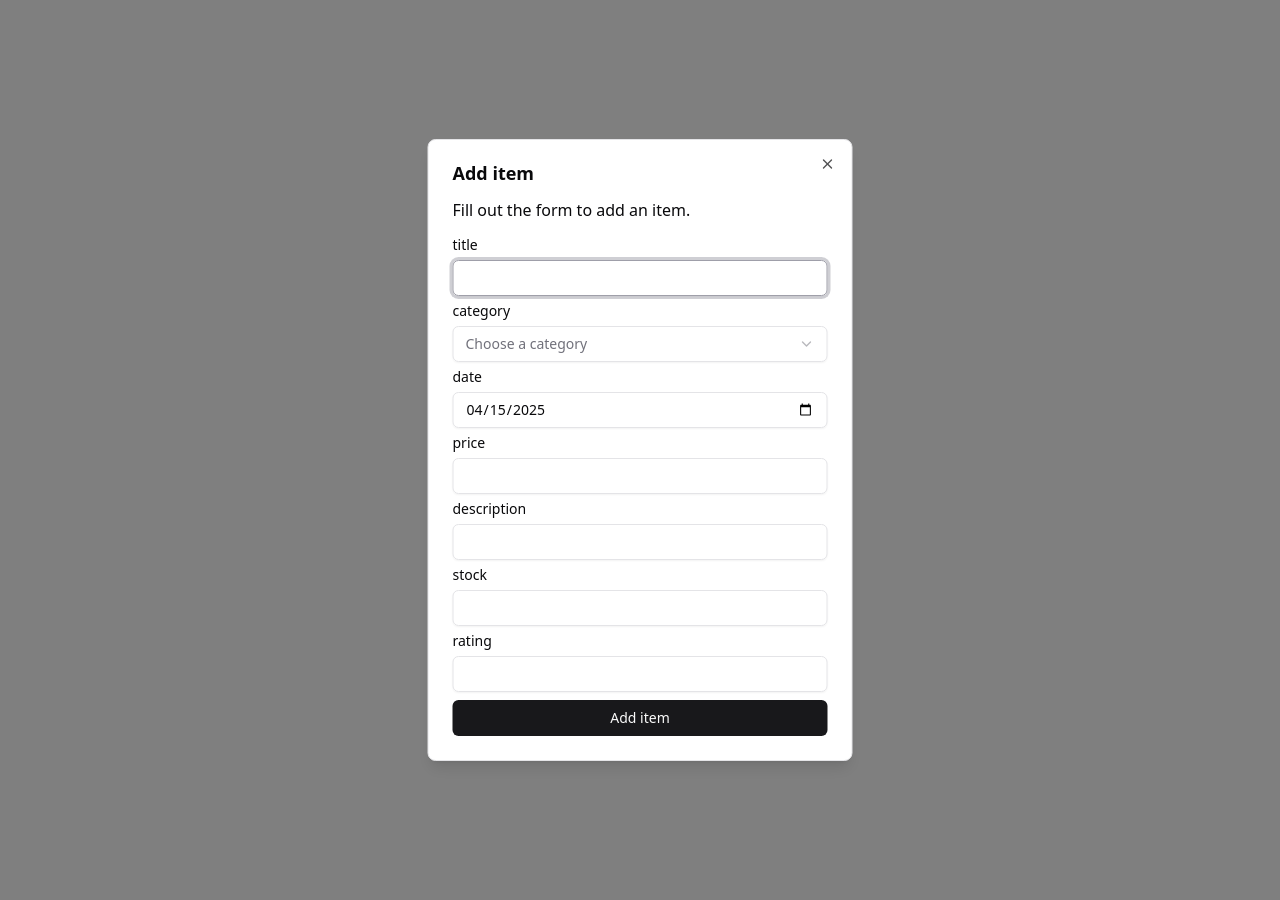
Test: ItemDialog - Add Item › shows validation errors if submitted empty (excluding date)
The width and height of the screenshot is (1280, 900).
// کلیک روی دکمه ارسال فرم
What coordinates should you click on to do the following:
click the button "Add item"
I would click on:
 (640, 718)
Its box is [452, 700, 828, 736].
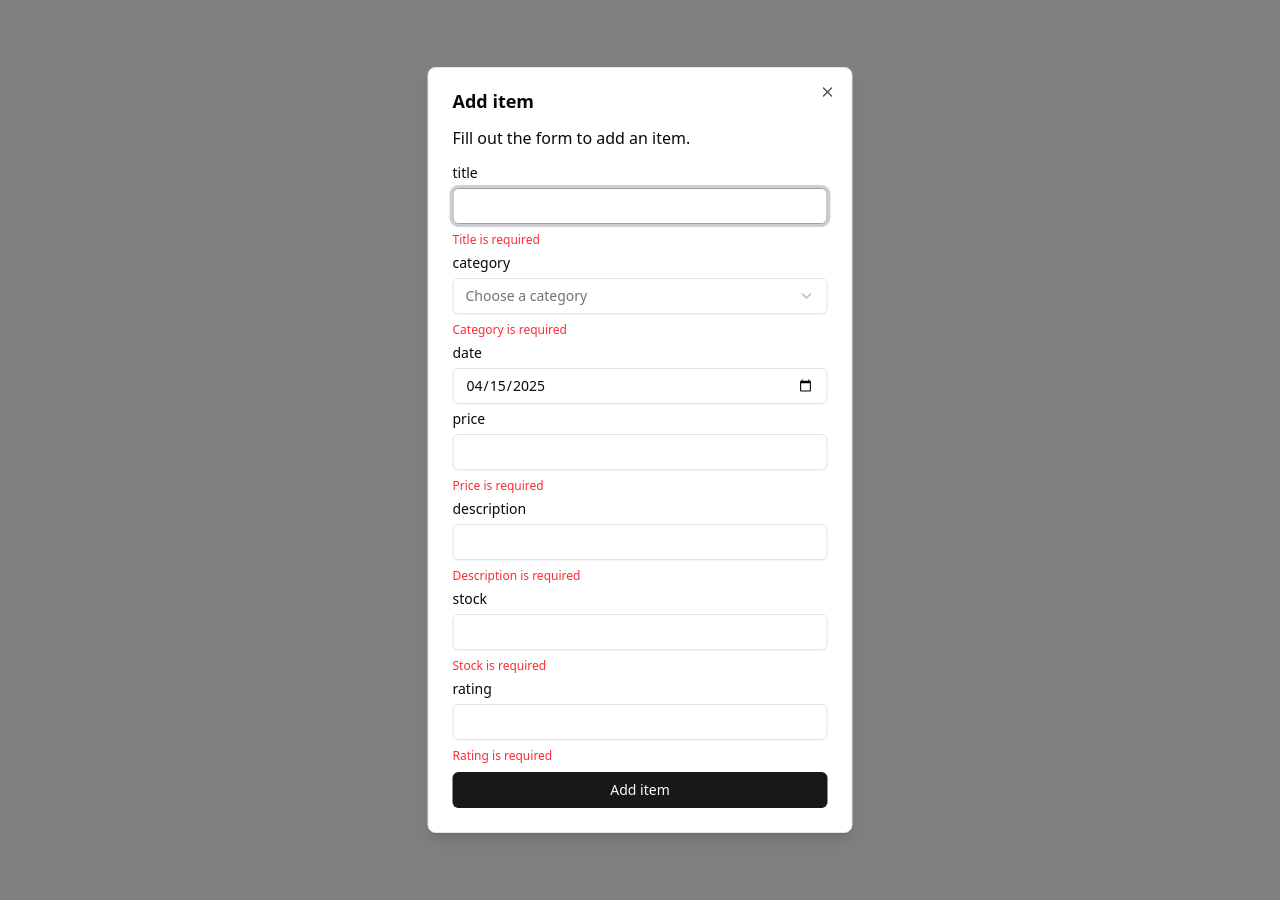
Expected: the text "Title is required" is shown, [452, 231, 540, 248]
Expected: the text "Category is required" is shown, [452, 321, 567, 338]
Expected: the text "Price is required" is shown, [452, 477, 544, 494]
